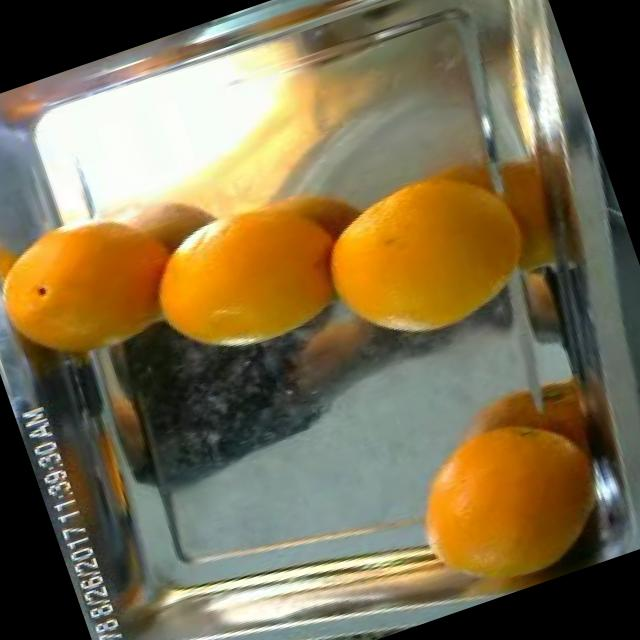Fruit: (124, 172, 363, 388), (0, 177, 210, 394)
